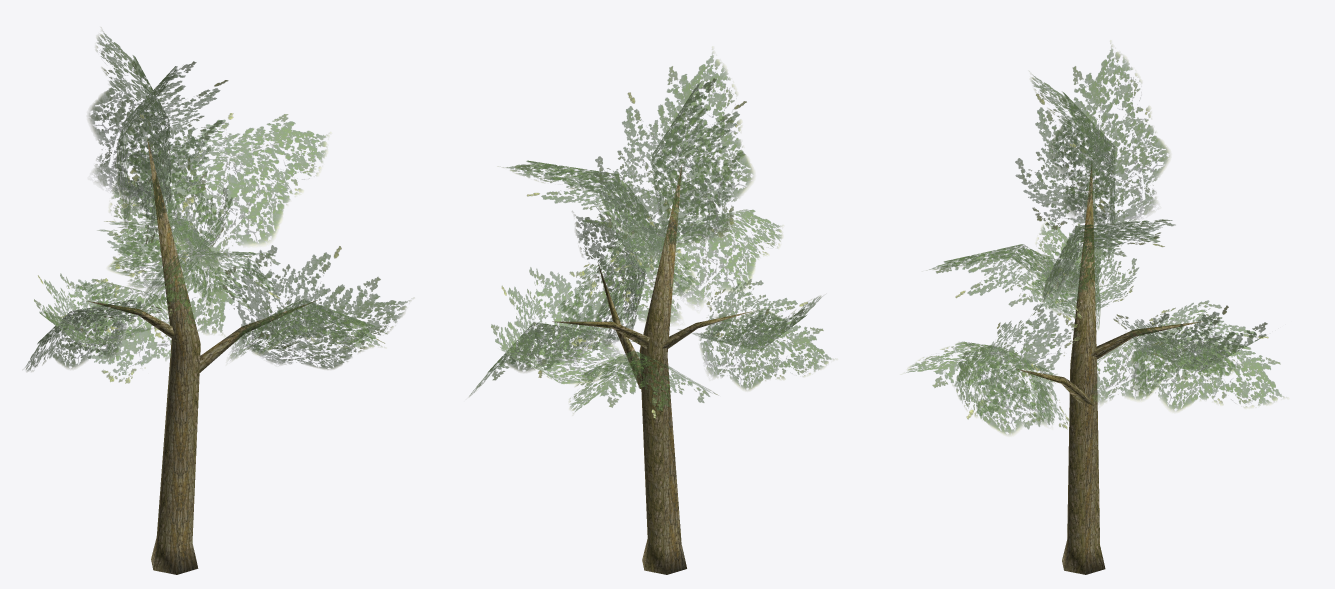
File: tree4.glb
3 renders of one model, left to right at view 1: azimuth 30°, elevation 25°; view 2: azimuth 150°, elevation 25°; view 3: azimuth 270°, elevation 25°, orthographic. The views are drawn at different scales.
Parts seen in each view (by area): view 1: Tree_6; view 2: Tree_6; view 3: Tree_6.
Part boxes in pixels (x1,y1,x2,y2): Tree_6: (25, 27, 414, 574); Tree_6: (469, 46, 837, 574); Tree_6: (900, 40, 1288, 574).
Size of the model in its own units: 5.47 by 8.09 by 6.06.
2 materials, 2 textured.
